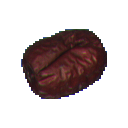ng: (17, 25, 112, 103)
